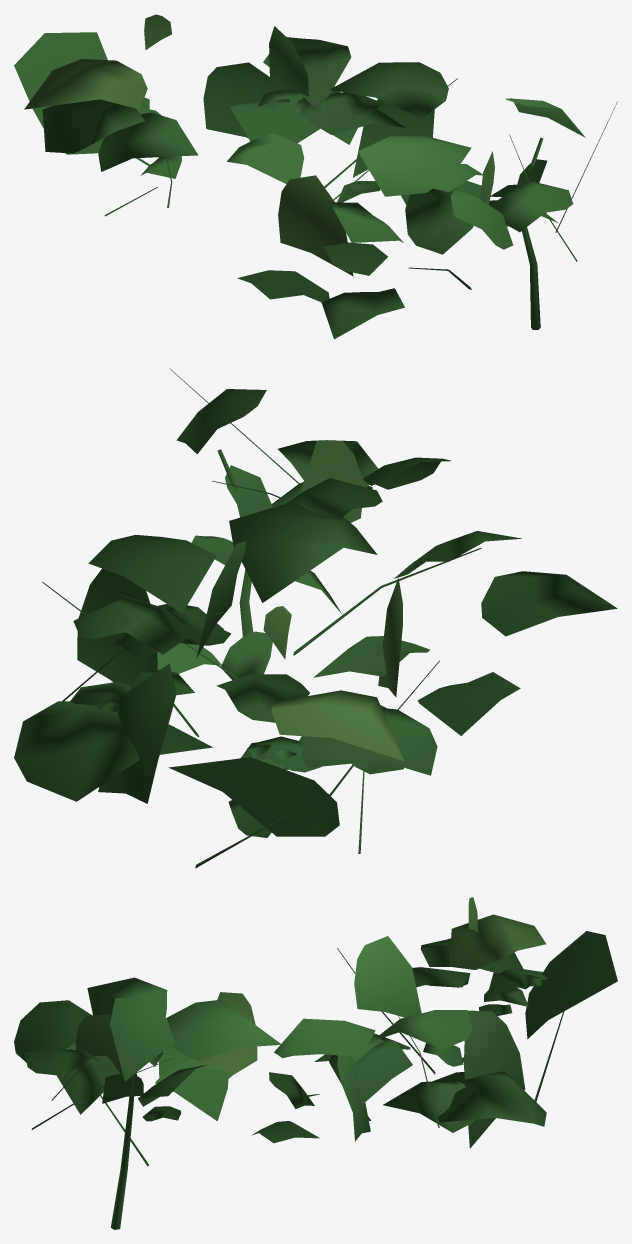
The model's file is forracao_3_longe.glb.
3 views of the same model, one above another, from view 1: azimuth 30°, elevation 25°; view 2: azimuth 150°, elevation 25°; view 3: azimuth 270°, elevation 25° (orthographic). The views are drawn at different scales.
Visible parts, largest first — view 1: forracao_3_longe; view 2: forracao_3_longe; view 3: forracao_3_longe.
Part boxes in pixels (x1,y1,x2,y2): forracao_3_longe: (14, 14, 617, 339); forracao_3_longe: (14, 368, 617, 868); forracao_3_longe: (14, 897, 617, 1229).
Bounding box in the file's own units: 0.4919 × 0.2815 × 0.6646.
